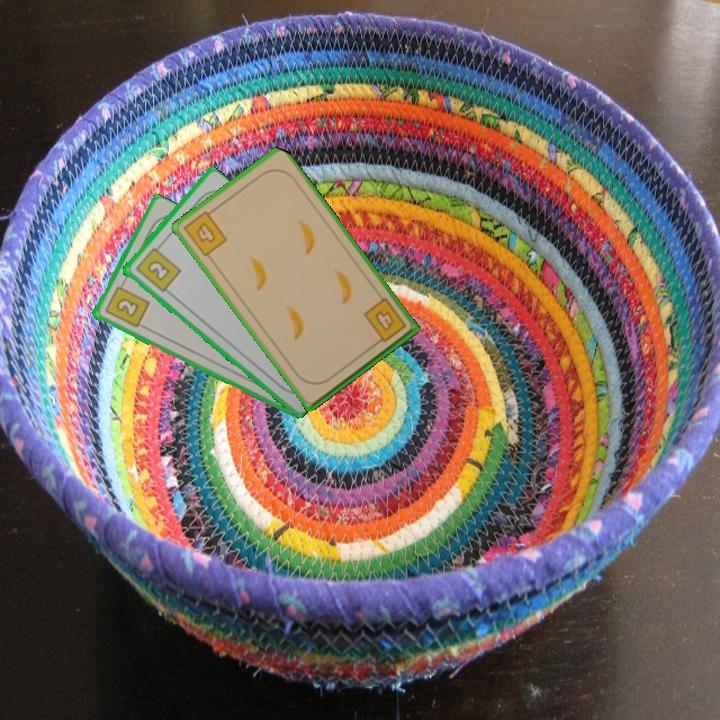2b: (132, 241, 183, 295), (101, 278, 152, 330)
4b: (180, 205, 230, 259), (360, 294, 409, 348)
